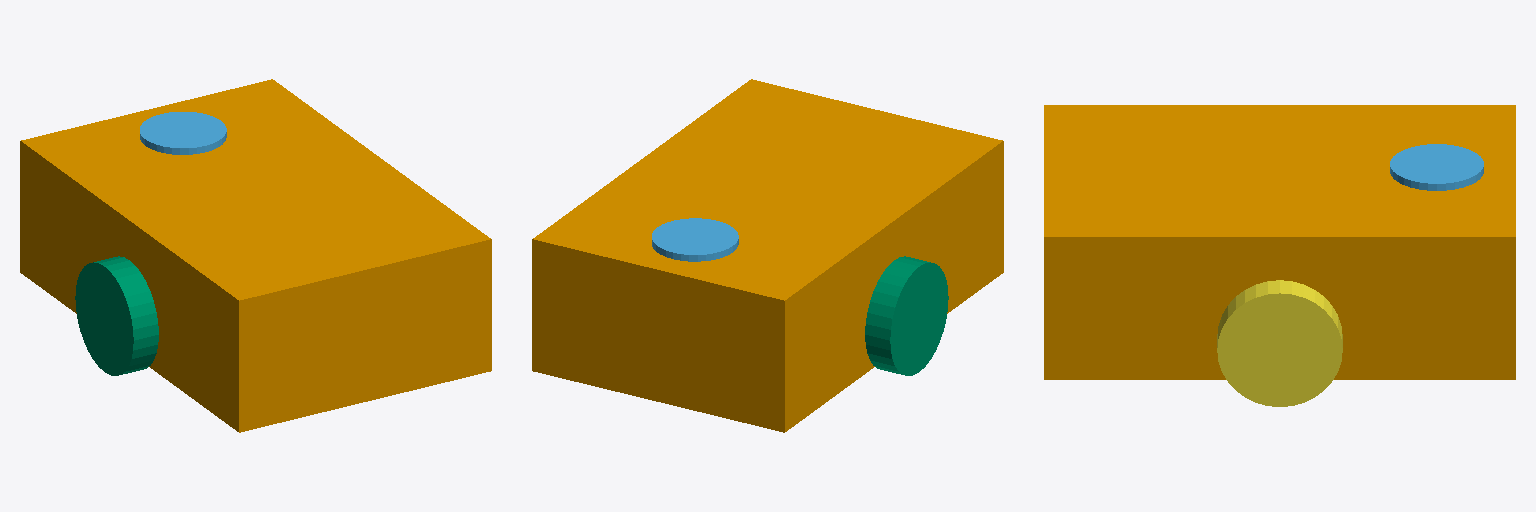
robot.urdf — my_robot:
<?xml version="1.0"?>

<robot name="my_robot">

  <link name="base_link">

    <visual>
      <origin xyz="0 0 0"/>
      <geometry>
        <mesh
          filename="package://my_robot_description/meshes/body2.stl"
          scale="0.001 0.001 0.001"/>
      </geometry>
    </visual>

    <collision>
      <geometry>
        <box size="0.2 0.3 0.1"/>
      </geometry>
    </collision>

    <inertial>
      
      <origin xyz="0 0 0"/>

      <mass value="1.0"/>

      <inertia
          ixx="0.01"
          ixy="0"
          ixz="0"
          iyy="0.01"
          iyz="0"
          izz="0.01"/>
    </inertial>

  </link>
 
  <link name="laser_link">
   
   <visual>

    <geometry>
  
     <cylinder
         radius="0.03"
         length="0.05"/>

    </geometry>

   </visual>
   
   <collision>
     <geometry>
       <cylinder radius="0.03" length="0.05"/>
     </geometry>
   </collision>

   <inertial>
     <origin xyz="0 0 0"/>
     <mass value="0.05"/>
     <inertia
       ixx="0.0001"
       ixy="0"
       ixz="0"
       iyy="0.0001"
       iyz="0"
       izz="0.0001"/>
   </inertial>

  </link>
  
  <link name="left_wheel_link">

   <visual>

    <geometry>
     <cylinder
       radius="0.04"
       length="0.02"/>
    </geometry>

   </visual>
   
   <collision>
     <geometry>
       <cylinder
         radius="0.04"
         length="0.02"/>
     </geometry>
   </collision>

   <inertial>
     <origin xyz="0 0 0"/>
     <mass value="0.2"/>

     <inertia
       ixx="0.0005"
       ixy="0"
       ixz="0"
       iyy="0.0005"
       iyz="0"
       izz="0.0005"/>
   </inertial>

  </link>

  <link name="right_wheel_link">

   <visual>

    <geometry>
      <cylinder
        radius="0.04"
        length="0.02"/>
    </geometry>

   </visual>
   
   <collision>
     <geometry>
       <cylinder
         radius="0.04"
         length="0.02"/>
     </geometry>
   </collision>

   <inertial>
     <origin xyz="0 0 0"/>
     <mass value="0.2"/>
     <inertia
       ixx="0.0005"
       ixy="0"
       ixz="0"
       iyy="0.0005"
       iyz="0"
       izz="0.0005"/>

   </inertial>
 
  </link>

  <joint
      name="laser_joint"
      type="fixed">

    <parent link="base_link"/>
    <child link="laser_link"/>
    <origin
        xyz="0 0.10 0.08"
        rpy="0 0 0"/>

  </joint>
  
  <joint
    name="left_wheel_joint"
    type="continuous">
   <parent link="base_link"/>
   <child link="left_wheel_link"/>
   <origin
      xyz="-0.11 0 0.03"
      rpy="0 1.5708 0"/>

   <axis xyz="1 0 0"/>

  </joint>

  <joint
    name="right_wheel_joint"
    type="continuous">
   <parent link="base_link"/>
   <child link="right_wheel_link"/>
   <origin
      xyz="0.11 0 0.03"
      rpy="0 1.5708 0"/>

   <axis xyz="1 0 0"/>
  </joint>  
  
  <ros2_control name="GazeboSimSystem" type="system">

   <hardware>
    <plugin>gz_ros2_control/GazeboSimSystem</plugin>
   </hardware>

   <joint name="left_wheel_joint">

    <command_interface name="velocity">
      <param name="min">-1</param>
      <param name="max">1</param>
    </command_interface>

    <state_interface name="position"/>
    <state_interface name="velocity"/>

   </joint>

   <joint name="right_wheel_joint">

    <command_interface name="velocity">
      <param name="min">-1</param>
      <param name="max">1</param>
    </command_interface>

    <state_interface name="position"/>
    <state_interface name="velocity"/>

   </joint>

  </ros2_control>
  <gazebo>

    <plugin
        filename="gz_ros2_control-system"
        name="gz_ros2_control::GazeboSimROS2ControlPlugin">

      <parameters>/home/kimuro/nav2_ws/install/my_robot_description/share/my_robot_description/config/controllers.yaml</parameters>
     
    </plugin>

  </gazebo>
  
</robot>

--- Facts derived from the render (not from the file) ---
3 views of the same robot in one strip: view 1: azimuth 30°, elevation 25°; view 2: azimuth 150°, elevation 25°; view 3: azimuth 270°, elevation 25° (orthographic).
Model my_robot with 4 links and 3 joints (2 continuous, 1 fixed), rooted at base_link, posed all joints at 0.
Visible links, largest first — view 1: base_link, left_wheel_link, laser_link; view 2: base_link, left_wheel_link, laser_link; view 3: base_link, right_wheel_link, laser_link.
Boxes of the visible links, box(x1,y1,x2,y2) form: base_link: box(20, 79, 491, 432); left_wheel_link: box(75, 256, 158, 375); laser_link: box(140, 112, 226, 154); base_link: box(532, 79, 1003, 432); left_wheel_link: box(865, 256, 948, 375); laser_link: box(652, 218, 738, 261); base_link: box(1044, 105, 1515, 379); right_wheel_link: box(1217, 280, 1342, 406); laser_link: box(1390, 144, 1483, 190).
Bounding box of the posed robot: 0.24 × 0.3 × 0.115 m (x, y, z).
Meshes: 1 distinct files referenced, 1 mesh visuals loaded (1 binary STL).
